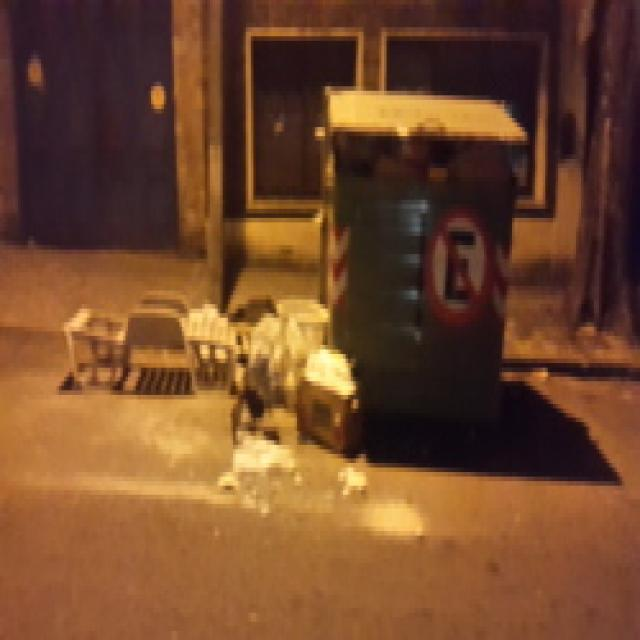garbage: (66, 295, 354, 427)
